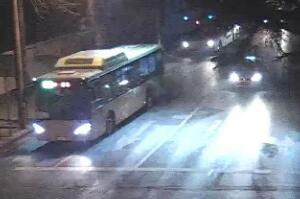bus: (25, 43, 166, 145)
car: (177, 19, 239, 52), (225, 53, 267, 88)
